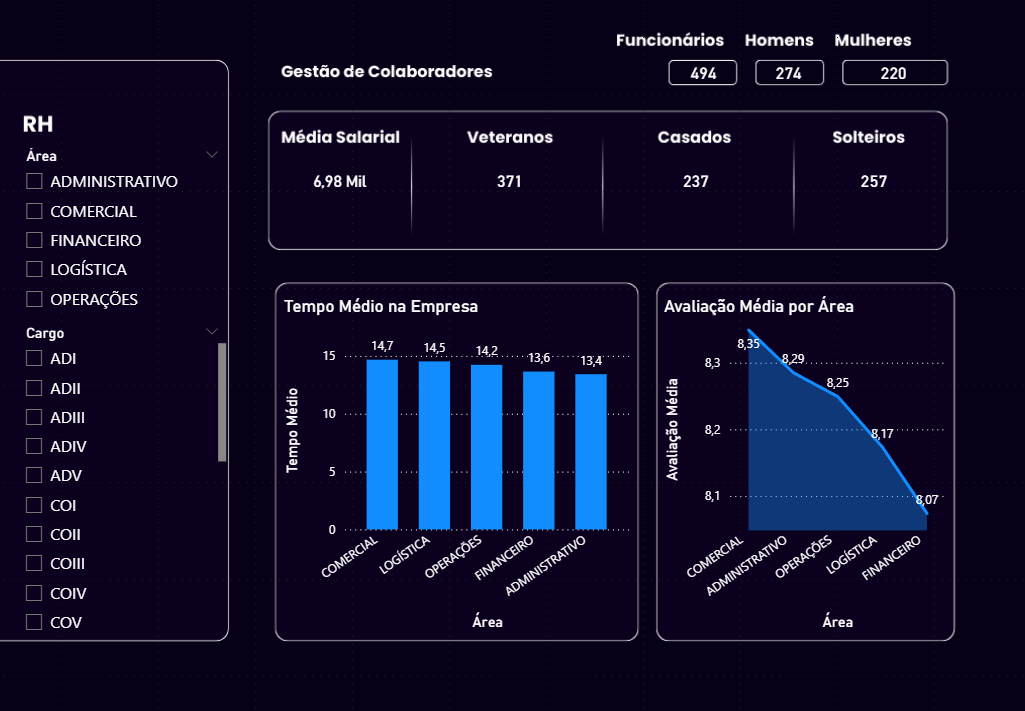

Layout of this report page (visuals, bound fields, positions):
{"tool":"powerbi","page":{"name":"Página 2","canvas":[1280,720],"ordinal":1},"visuals":[{"type":"columnChart","title":"Tempo Médio na Empresa","fields":{"Category":["BaseFuncionarios.Área"],"Y":["BaseFuncionarios.TempoMedioEmpresa"]},"box":[408,296,352,336],"z":0},{"type":"card","fields":{"Values":["BaseFuncionarios.Qtd_Feminino"]},"box":[976,56,80,40],"z":1000},{"type":"card","fields":{"Values":["BaseFuncionarios.Qtd_Masculino"]},"box":[872,56,80,40],"z":2000},{"type":"card","fields":{"Values":["CountNonNull(BaseFuncionarios.ID RH)"]},"box":[792,56,72,40],"z":3000},{"type":"slicer","fields":{"Values":["BaseFuncionarios.Área"]},"box":[144,144,216,192],"z":4000},{"type":"card","fields":{"Values":["BaseFuncionarios.Qtd_Casados"]},"box":[752,120,136,128],"z":5000},{"type":"card","fields":{"Values":["BaseFuncionarios.Qtd_Solteiros"]},"box":[928,120,136,128],"z":6000},{"type":"areaChart","fields":{"Category":["BaseFuncionarios.Área"],"Y":["BaseFuncionarios.Avaliação Média"]},"box":[784,296,288,336],"z":7000},{"type":"card","fields":{"Values":["BaseFuncionarios.MediaSalarial"]},"box":[400,120,136,128],"z":8000},{"type":"card","fields":{"Values":["BaseFuncionarios.MaisDezAnos"]},"box":[568,120,136,128],"z":9000},{"type":"slicer","fields":{"Values":["BaseFuncionarios.Cargo"]},"box":[144,320,216,320],"z":9001}]}

Visuals, with their boxes on the page's 1280x720 design canvas (x1, y1, x2, y2). These are canvas units, not pixel positions in the 1025x711 screenshot, which may show the page scaled, cropped or inside an application window:
"Tempo Médio na Empresa" columnChart: <box>408,296,760,632</box>
card - BaseFuncionarios.Qtd_Feminino: <box>976,56,1056,96</box>
card - BaseFuncionarios.Qtd_Masculino: <box>872,56,952,96</box>
card - CountNonNull(BaseFuncionarios.ID RH): <box>792,56,864,96</box>
slicer - BaseFuncionarios.Área: <box>144,144,360,336</box>
card - BaseFuncionarios.Qtd_Casados: <box>752,120,888,248</box>
card - BaseFuncionarios.Qtd_Solteiros: <box>928,120,1064,248</box>
areaChart - BaseFuncionarios.Área x BaseFuncionarios.Avaliação Média: <box>784,296,1072,632</box>
card - BaseFuncionarios.MediaSalarial: <box>400,120,536,248</box>
card - BaseFuncionarios.MaisDezAnos: <box>568,120,704,248</box>
slicer - BaseFuncionarios.Cargo: <box>144,320,360,640</box>
